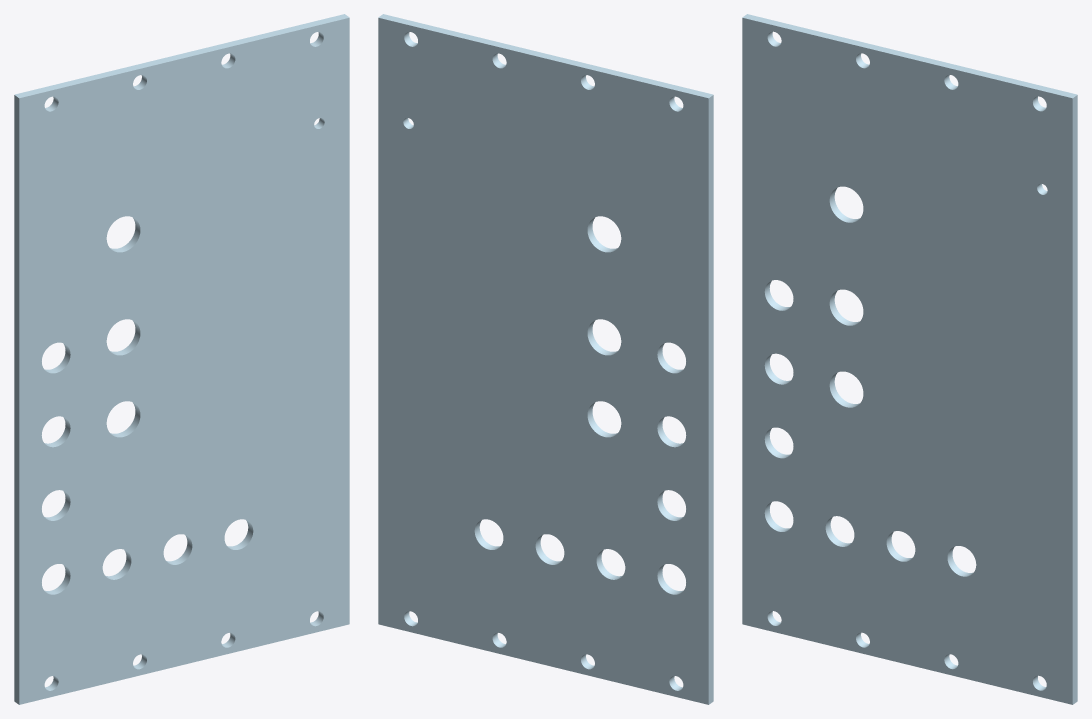
The model's file is panel.gltf.
The picture shows the model from 3 angles, left to right: view 1: azimuth 30°, elevation 25°; view 2: azimuth 150°, elevation 25°; view 3: azimuth 330°, elevation 25°; orthographic projection.
Visible parts, largest first — view 1: Part 1; view 2: Part 1; view 3: Part 1.
Boxes of the visible parts, x1=… form: Part 1: x1=14, y1=14, x2=349, y2=704; Part 1: x1=378, y1=14, x2=713, y2=704; Part 1: x1=742, y1=14, x2=1077, y2=704.
Bounding box in the file's own units: 0.076 × 0.1332 × 0.002.
